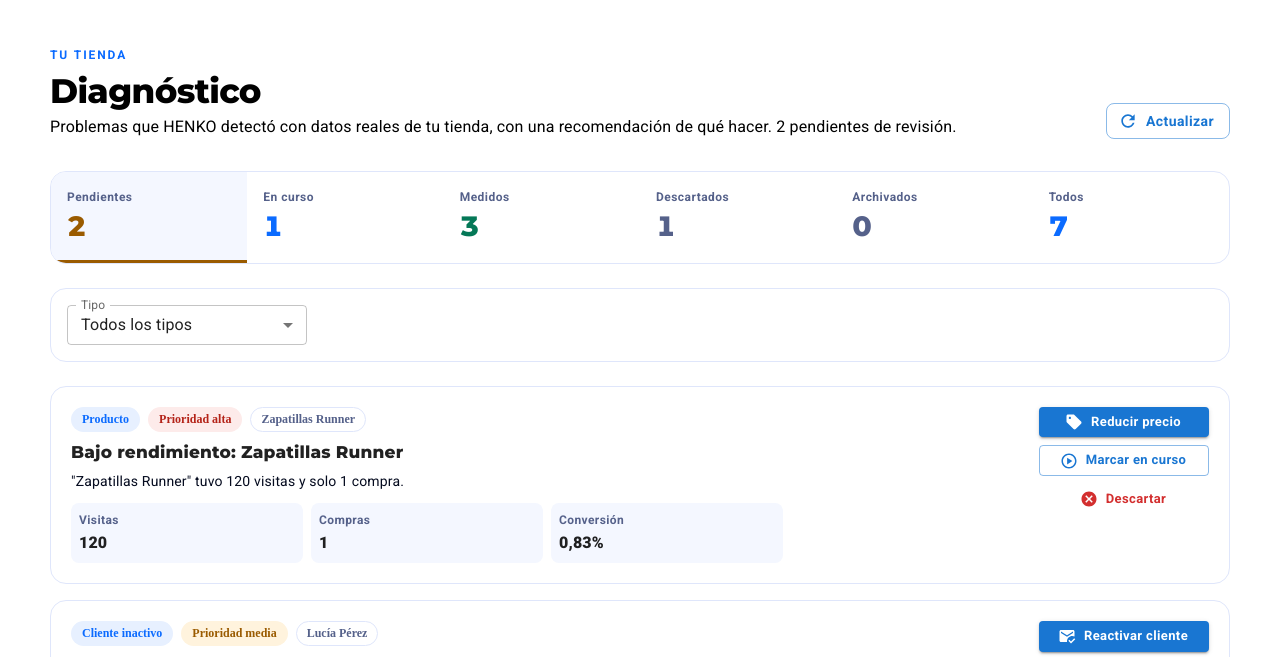
Test: Diagnóstico · acciones según el estado › si falla una acción muestra el mensaje del servidor
The image size is (1280, 657).
Click the button "Marcar en curso" in the row of "Bajo rendimiento: Zapatillas Runner": click(1124, 461) x1=1039 y1=445 x2=1209 y2=476
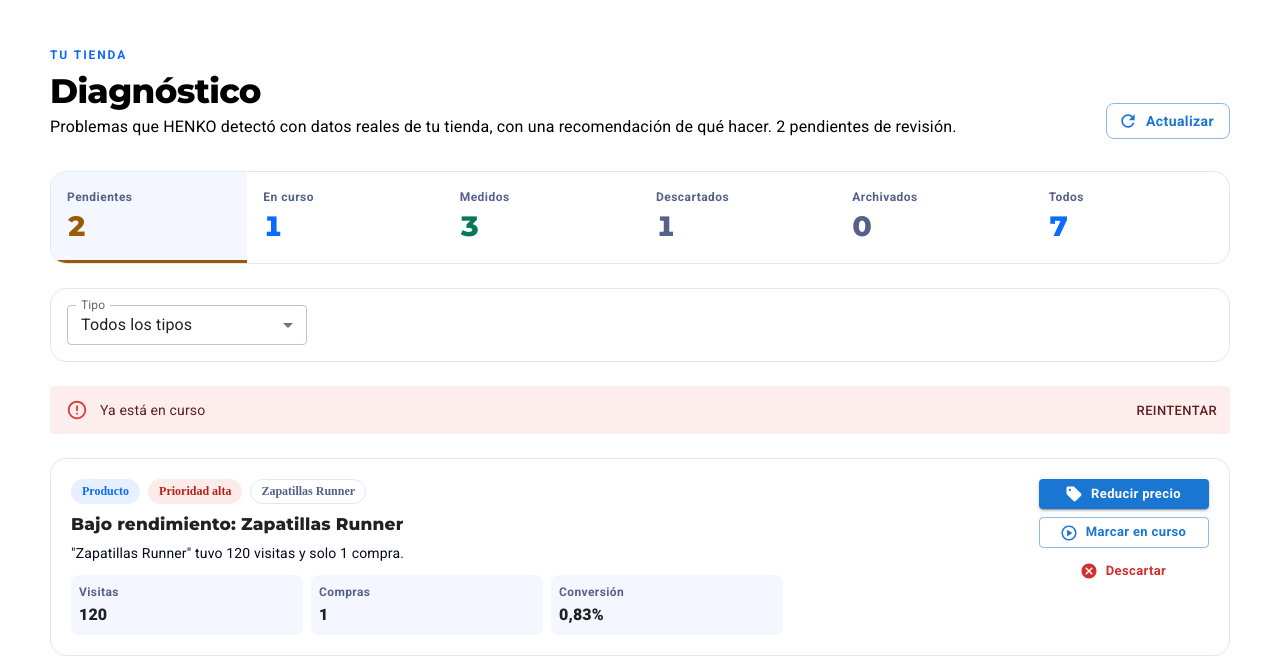
Result: the text "Ya está en curso" is shown at x1=100 y1=402 x2=205 y2=418
